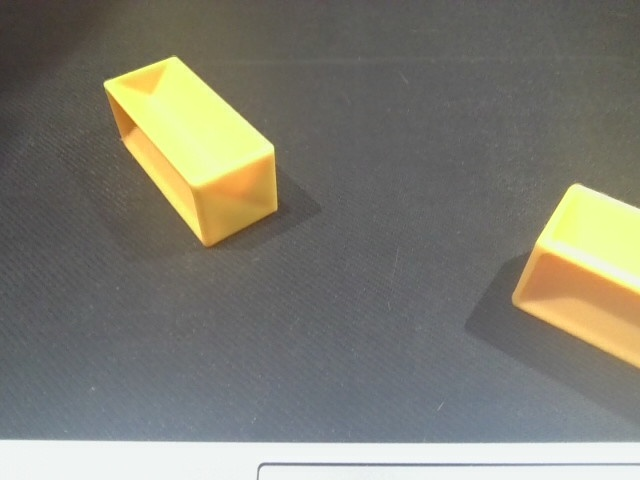YellowSample: (95, 49, 291, 251), (507, 176, 640, 380)
